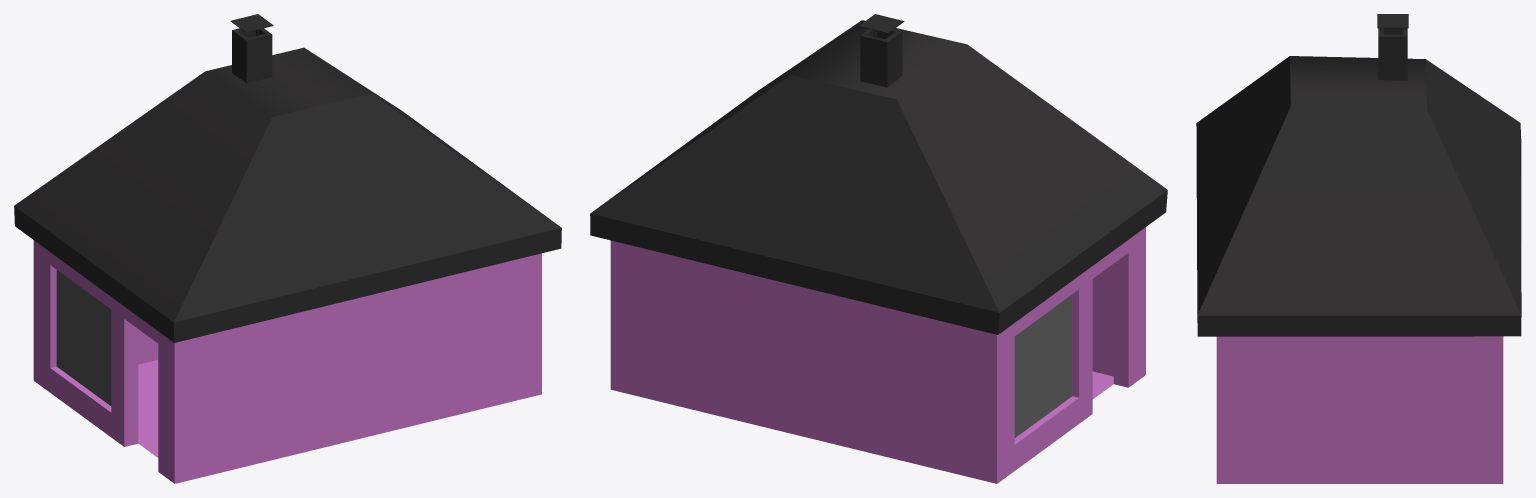
Rendered from baeckerladen_position.dae.
3 renders of one model, left to right at view 1: azimuth 30°, elevation 25°; view 2: azimuth 150°, elevation 25°; view 3: azimuth 270°, elevation 25°, orthographic. The views are drawn at different scales.
Visible parts, largest first — view 1: roof, house, window2, kamin; view 2: roof, house, window2, kamin; view 3: roof, house, kamin, kaminOben.
Boxes of the visible parts, bbox=[...] form: roof: bbox=[14, 47, 561, 342]; house: bbox=[33, 240, 541, 483]; window2: bbox=[56, 270, 111, 405]; kamin: bbox=[232, 28, 272, 82]; roof: bbox=[590, 20, 1167, 334]; house: bbox=[610, 227, 1145, 483]; window2: bbox=[1014, 294, 1072, 437]; kamin: bbox=[860, 29, 902, 87]; roof: bbox=[1196, 56, 1521, 336]; house: bbox=[1216, 336, 1503, 483]; kamin: bbox=[1378, 28, 1407, 80]; kaminOben: bbox=[1377, 14, 1408, 28].
Size of the model in its own units: 6.35 by 5.58 by 4.53.
